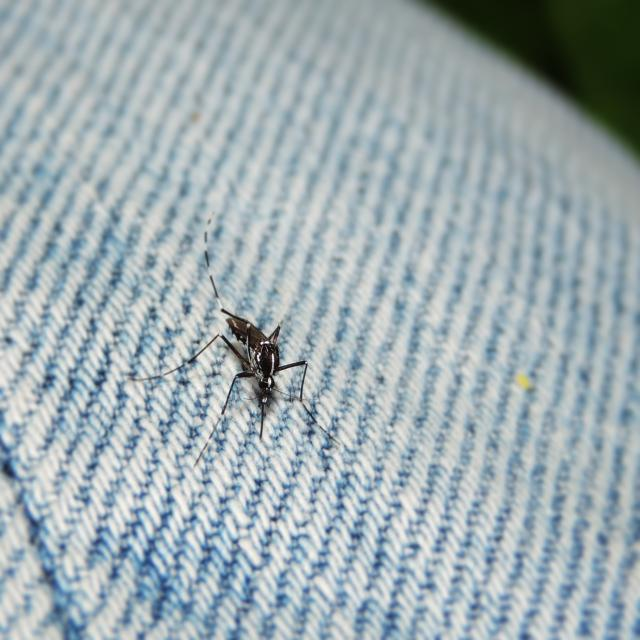albopictus: (121, 236, 323, 450)
